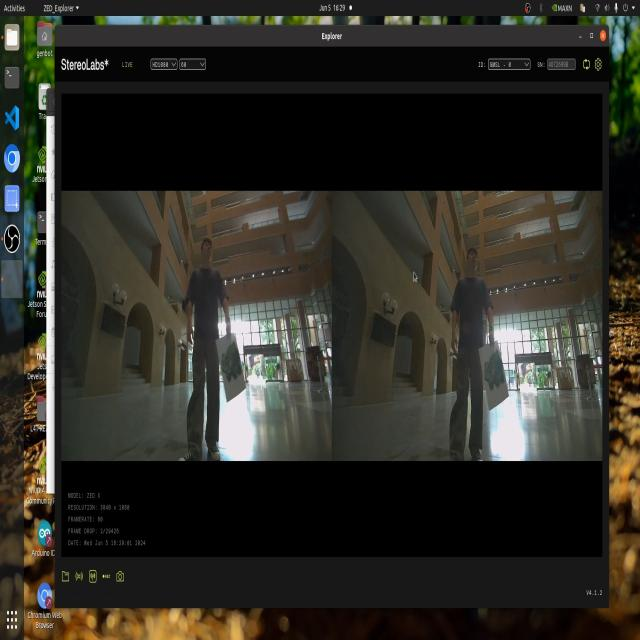green: (218, 341, 242, 392), (481, 351, 504, 396)
